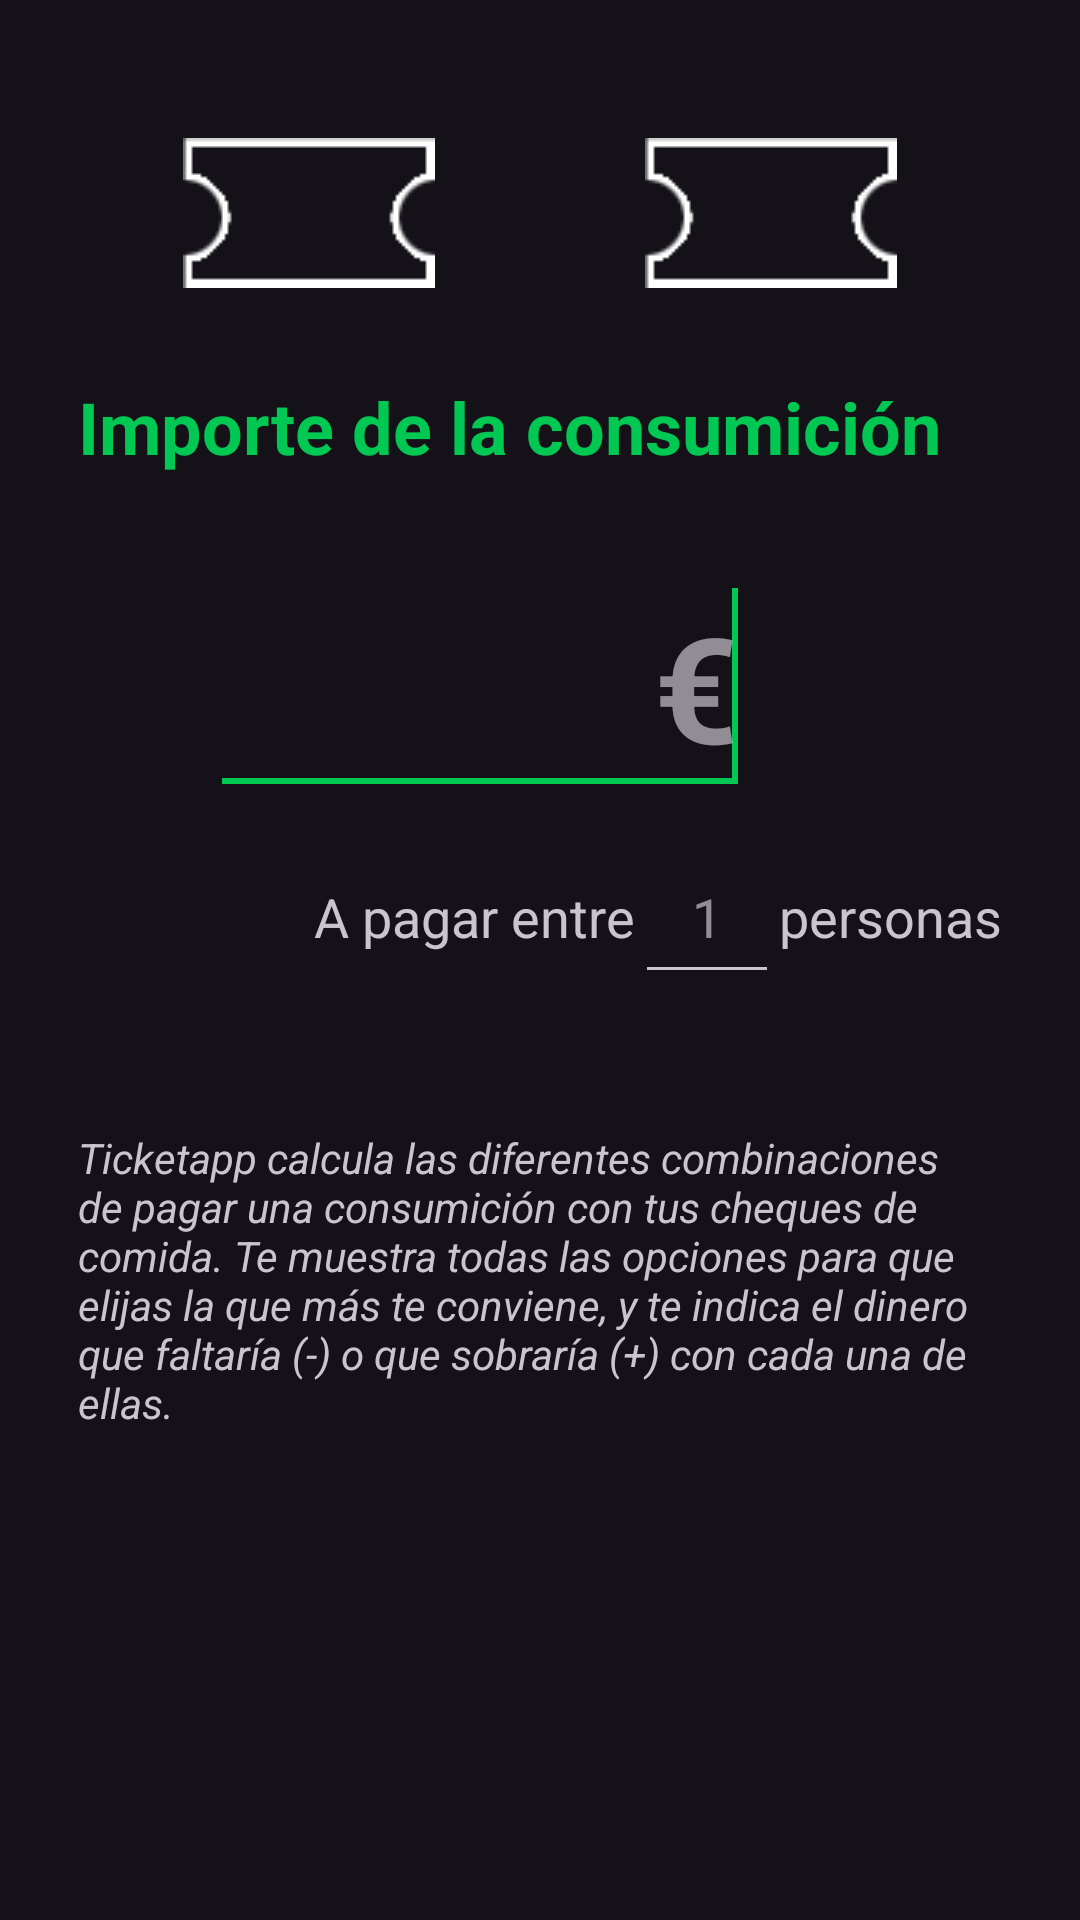

Locate icon controls on the screen. Image size 1080px×1920px, boxes as [left=x1, top=y1, right=x2, bottom=y2].
ticket: [left=183, top=138, right=435, bottom=288], [left=645, top=138, right=897, bottom=288]
